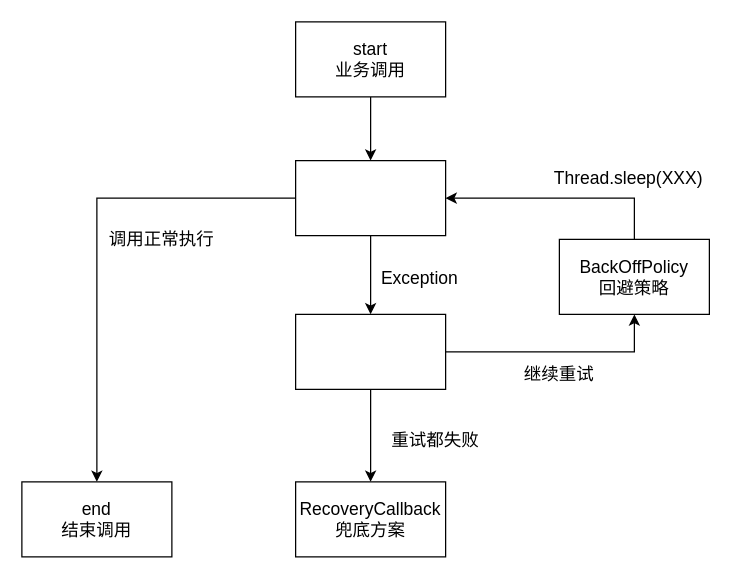
Some shapes in this 736 by 579 pixel diagram are drawn without their labels. Each missing label, with the box of its shape:
RetryCallback 执行业务: (294, 159, 446, 236)
RetryPolicy 重试策略: (294, 313, 446, 389)
